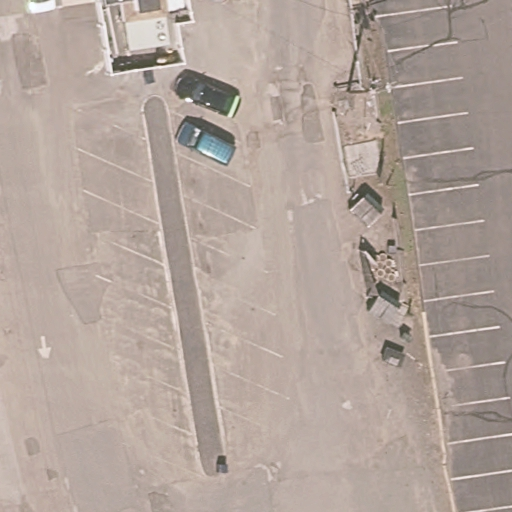DT: (337, 83, 389, 102)
